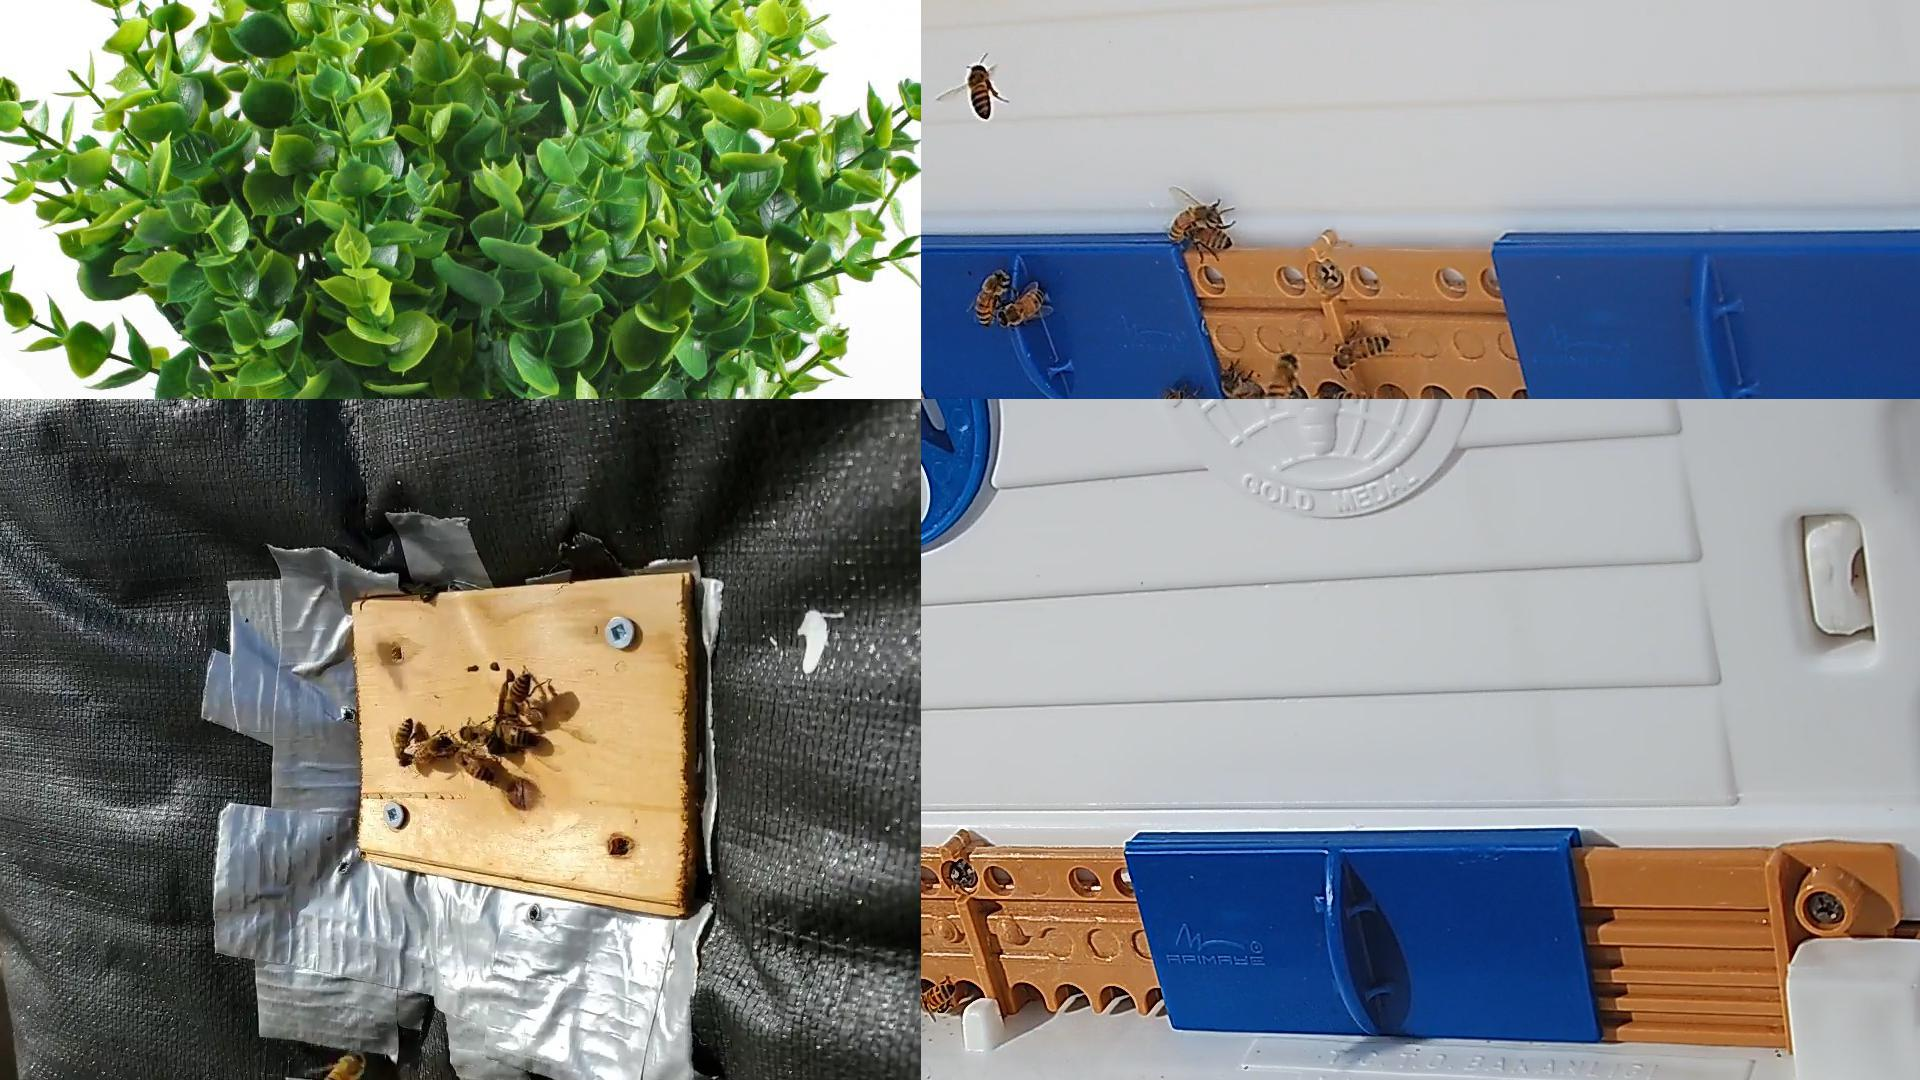bee: (1170, 206, 1224, 244), (1331, 336, 1390, 371), (996, 284, 1043, 324), (1265, 351, 1302, 398), (980, 269, 1011, 322), (968, 65, 996, 120), (1216, 368, 1259, 398), (455, 746, 493, 781), (318, 1052, 365, 1079), (508, 674, 534, 716), (922, 981, 956, 1011), (393, 719, 414, 767), (498, 721, 537, 748), (414, 735, 451, 760), (1188, 228, 1232, 249), (462, 728, 500, 749), (1336, 390, 1393, 398), (1317, 382, 1338, 398), (1163, 392, 1204, 398)
